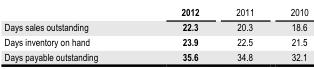table: (3, 4, 307, 63)
table column: (3, 4, 138, 63), (138, 4, 216, 63), (216, 4, 271, 63), (271, 4, 307, 63)
table column header: (3, 4, 307, 18)
table row: (3, 18, 307, 33), (3, 33, 307, 48), (3, 48, 307, 63), (3, 4, 307, 18)
